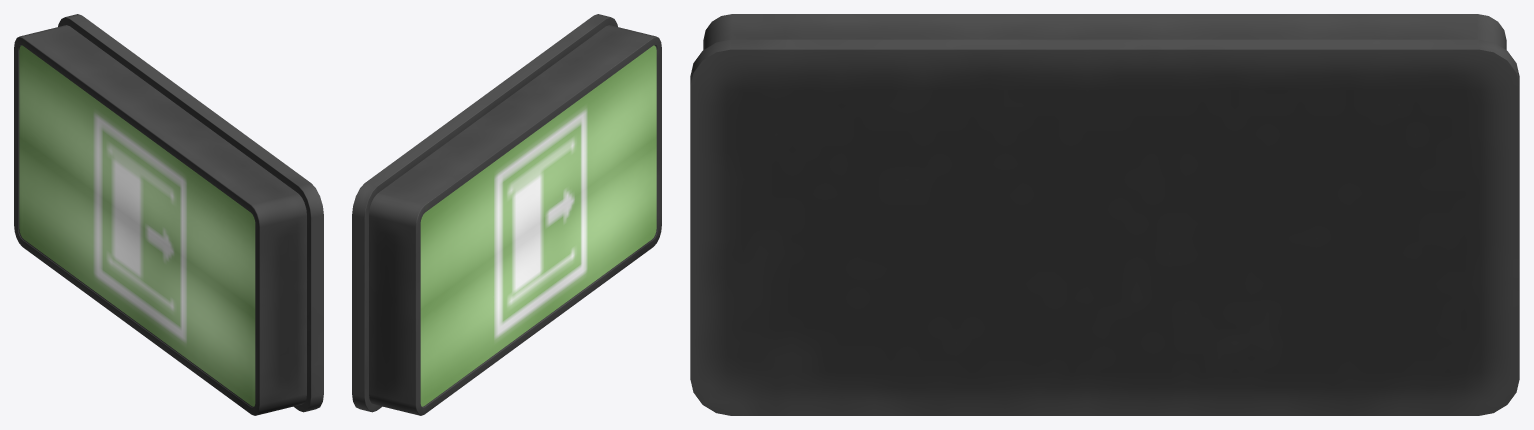
File: SM_SafetySign_02.fbx
3 views of the same model, side by side, from view 1: azimuth 30°, elevation 25°; view 2: azimuth 150°, elevation 25°; view 3: azimuth 270°, elevation 25° (orthographic). The views are drawn at different scales.
Parts seen in each view (by area): view 1: SM_SafetySign_02_LOD0; view 2: SM_SafetySign_02_LOD0; view 3: SM_SafetySign_02_LOD0.
Part boxes in pixels (x1=…): SM_SafetySign_02_LOD0: x1=14, y1=14, x2=323, y2=415; SM_SafetySign_02_LOD0: x1=352, y1=14, x2=661, y2=415; SM_SafetySign_02_LOD0: x1=690, y1=14, x2=1519, y2=415.
Size of the model in its own units: 6.05 by 44.15 by 21.53.
1 material, 1 textured.
